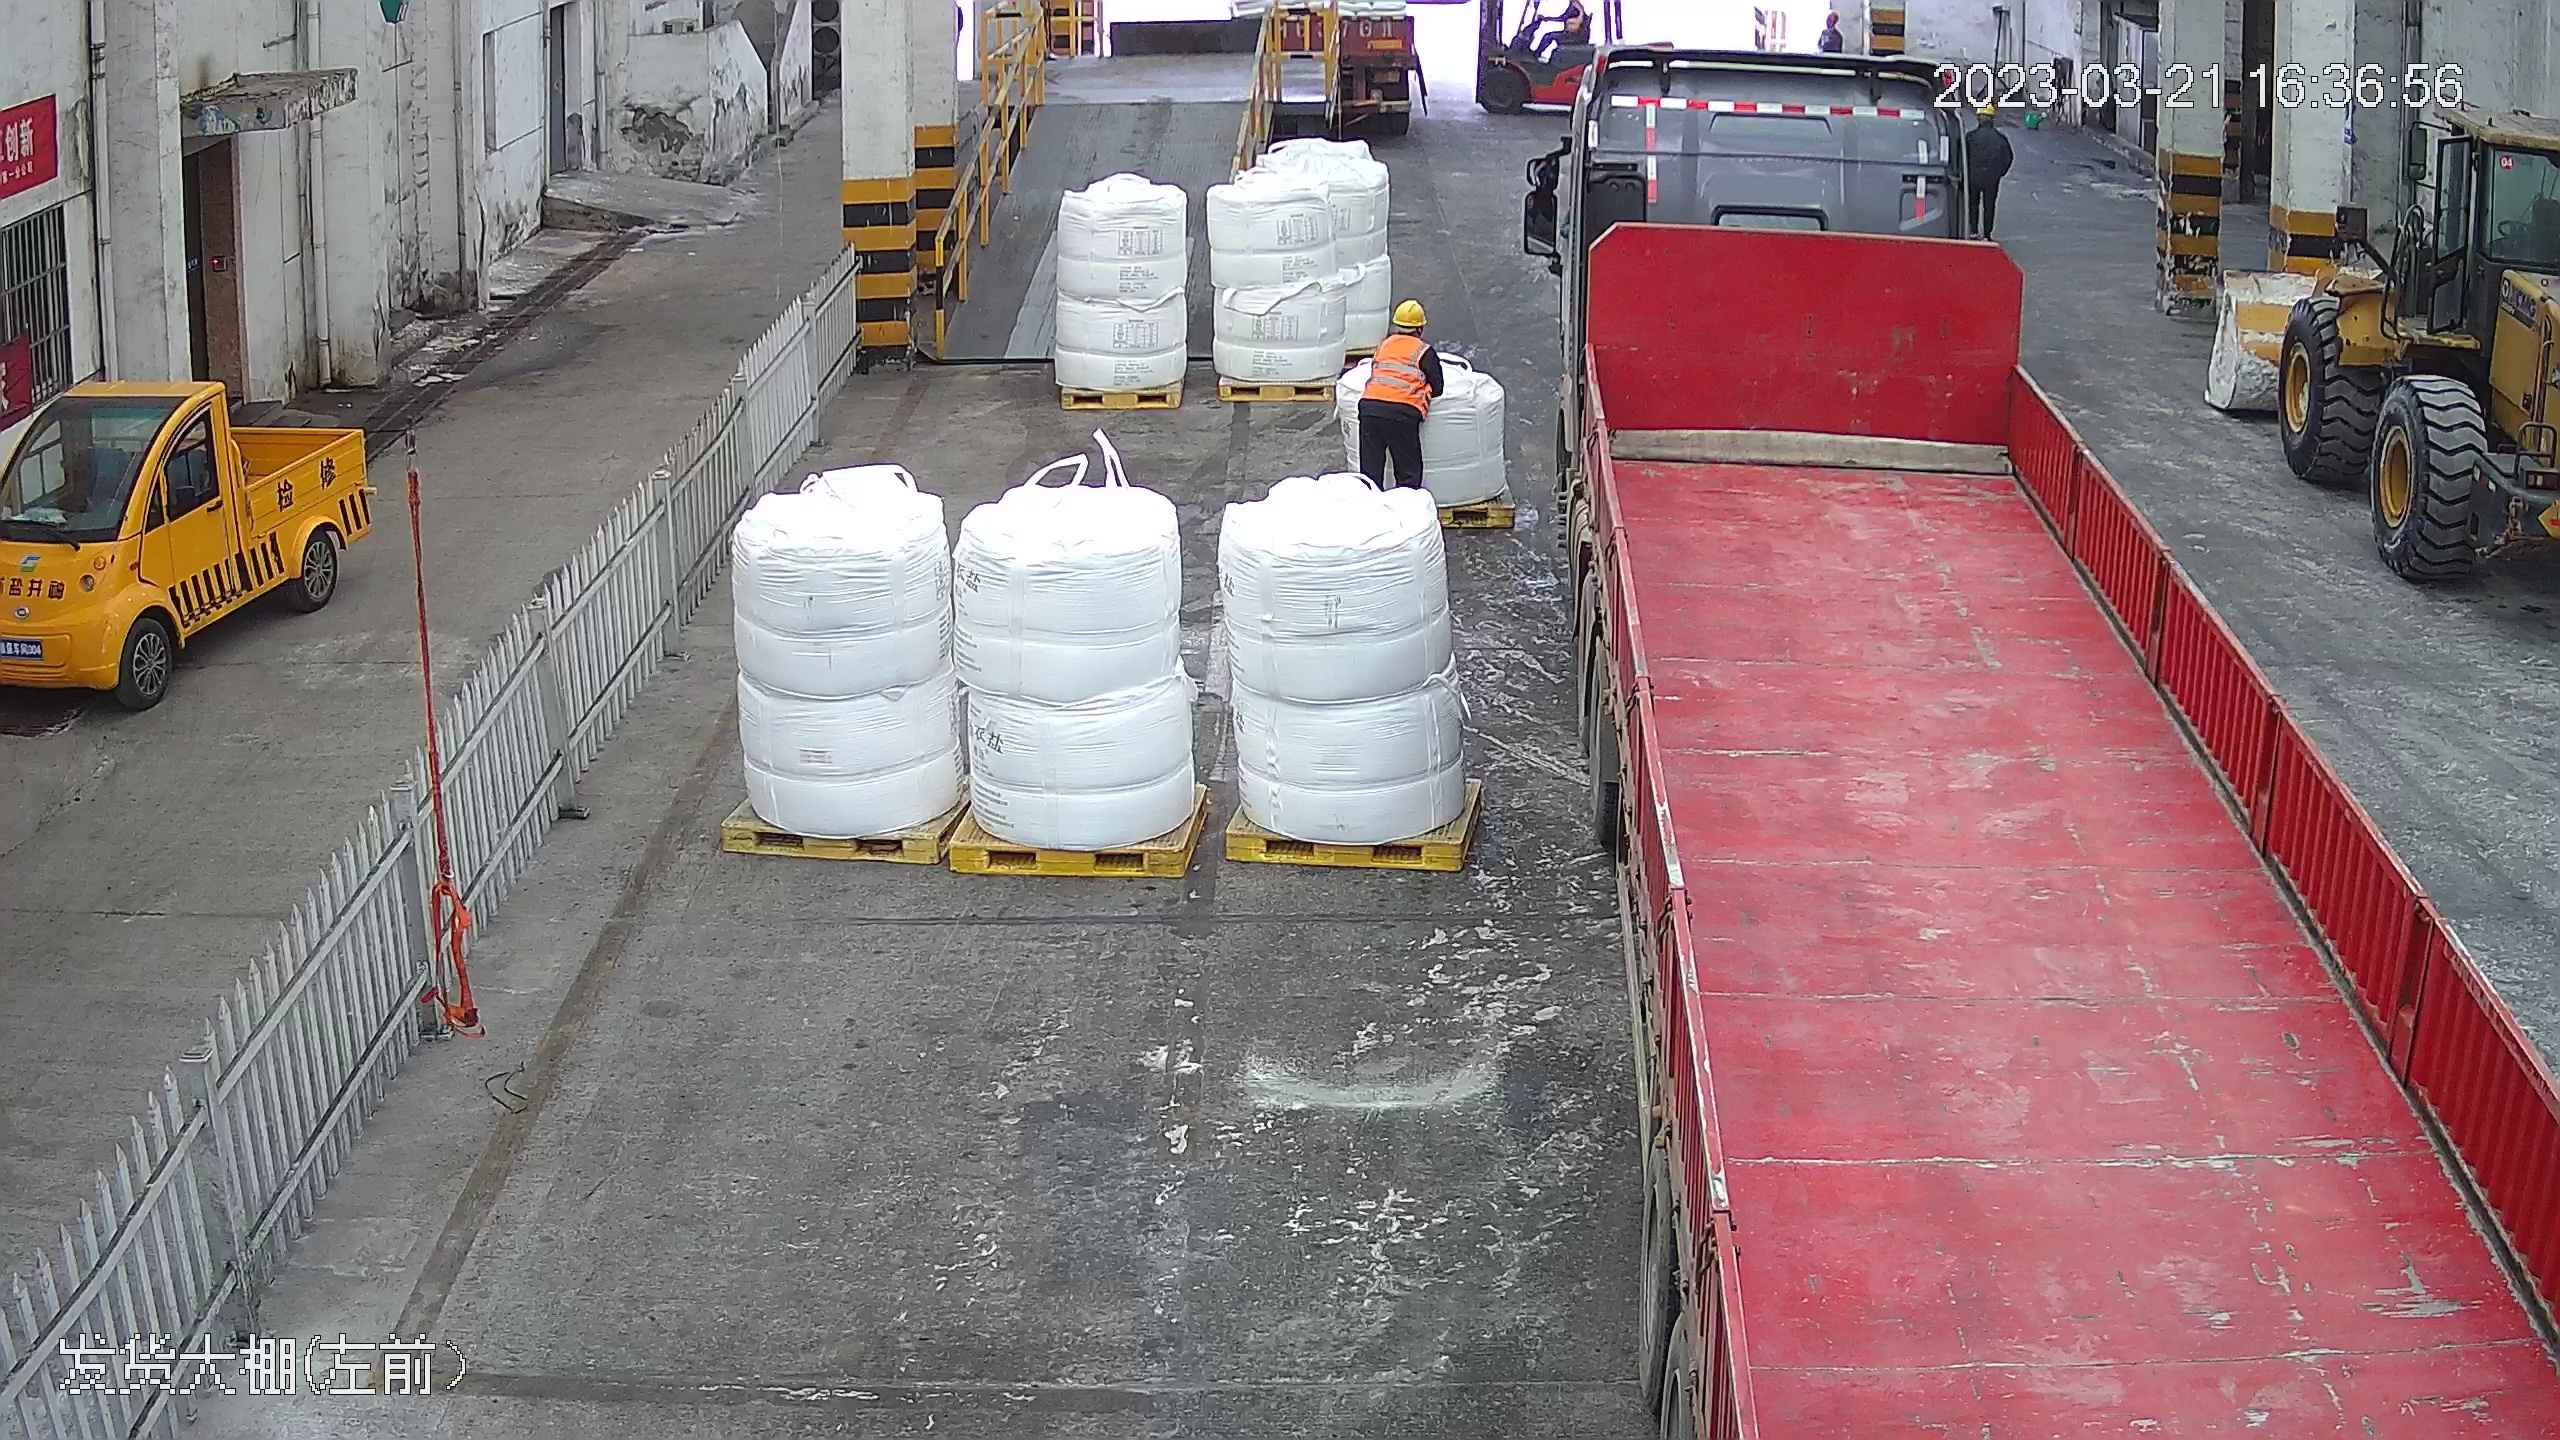head: (1368, 298, 1440, 373), (1973, 103, 2011, 152), (1817, 7, 1846, 51)
helmet: (1390, 297, 1430, 327), (1975, 103, 1996, 116), (1825, 10, 1839, 25)
people: (1355, 295, 1447, 500), (1963, 98, 2013, 227)
truck: (1533, 27, 2560, 1440)
